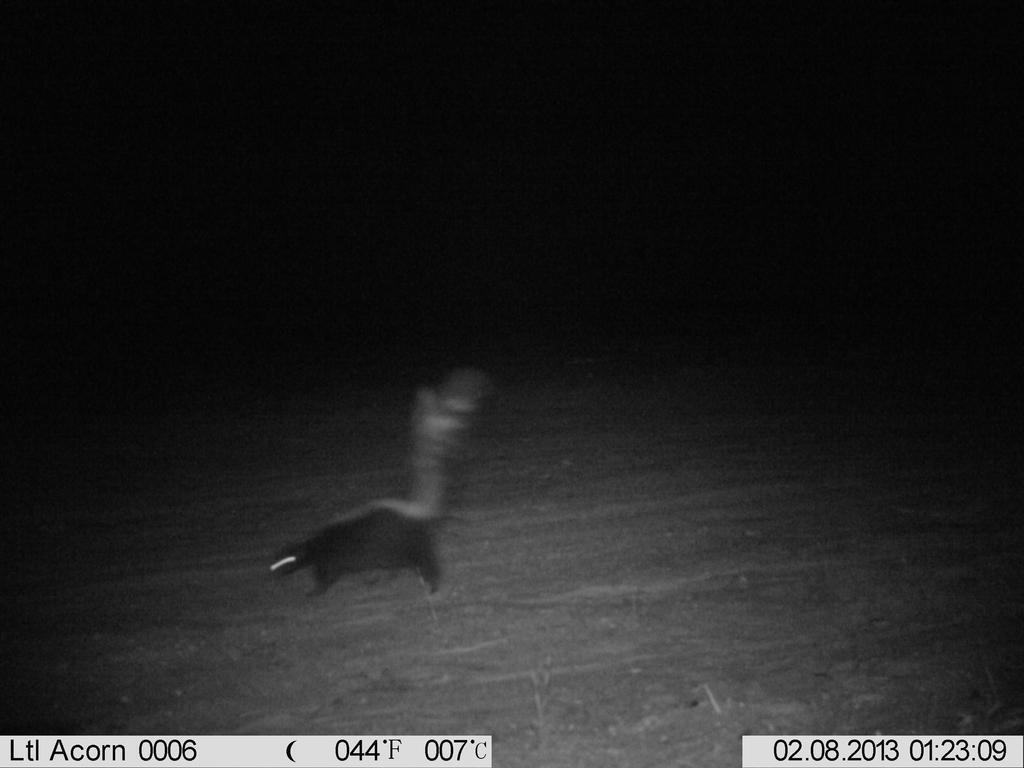skunk: (239, 361, 511, 603)
